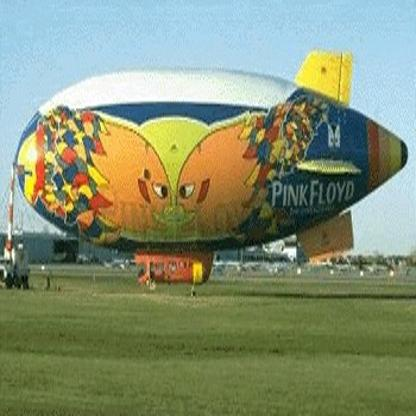Airship: (9, 46, 411, 285)
